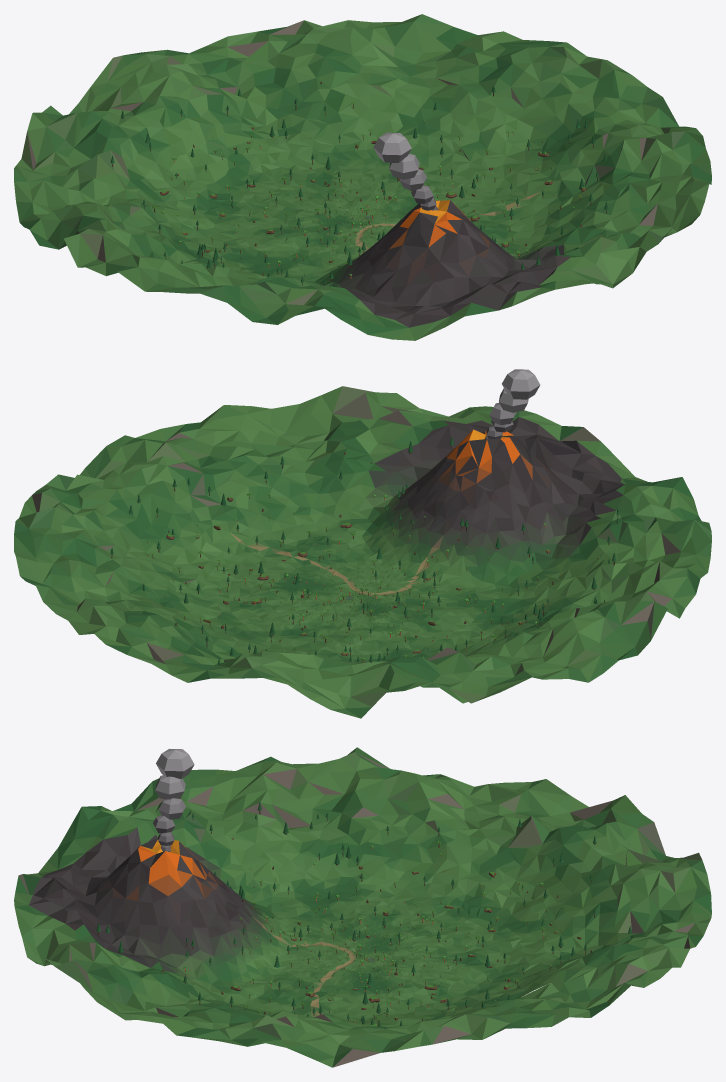
File: world_dinosaurs.glb
3 views of the same model, one above another, from view 1: azimuth 30°, elevation 25°; view 2: azimuth 150°, elevation 25°; view 3: azimuth 270°, elevation 25° (orthographic).
Visible parts, largest first — view 1: Sector5, Sector4, Sector6, Sector1, Sector3, Sector7, Sector0, Sector2; view 2: Sector1, Sector3, Sector2, Sector4, Sector0, Sector7, Sector5, Sector6; view 3: Sector7, Sector0, Sector2, Sector6, Sector1, Sector5, Sector3, Sector4.
Part boxes in pixels (box(x1,y1,x2,y2)): Sector5: box(188, 14, 456, 222); Sector4: box(363, 27, 662, 222); Sector6: box(27, 49, 362, 223); Sector1: box(267, 132, 540, 340); Sector3: box(363, 97, 711, 240); Sector7: box(14, 127, 361, 253); Sector0: box(64, 221, 362, 324); Sector2: box(363, 213, 699, 295); Sector1: box(363, 369, 698, 597); Sector3: box(58, 405, 362, 597); Sector2: box(272, 386, 535, 596); Sector4: box(14, 474, 361, 612); Sector0: box(363, 510, 711, 625); Sector7: box(363, 597, 667, 703); Sector5: box(26, 581, 362, 682); Sector6: box(188, 597, 440, 718); Sector7: box(351, 747, 612, 954); Sector0: box(113, 747, 368, 954); Sector2: box(14, 863, 362, 1023); Sector6: box(363, 795, 711, 956); Sector1: box(14, 748, 362, 956); Sector5: box(364, 900, 711, 1010); Sector3: box(119, 953, 380, 1067); Sector4: box(361, 955, 608, 1052).
Bounding box in the file's own units: 1320 × 365 × 1320.
